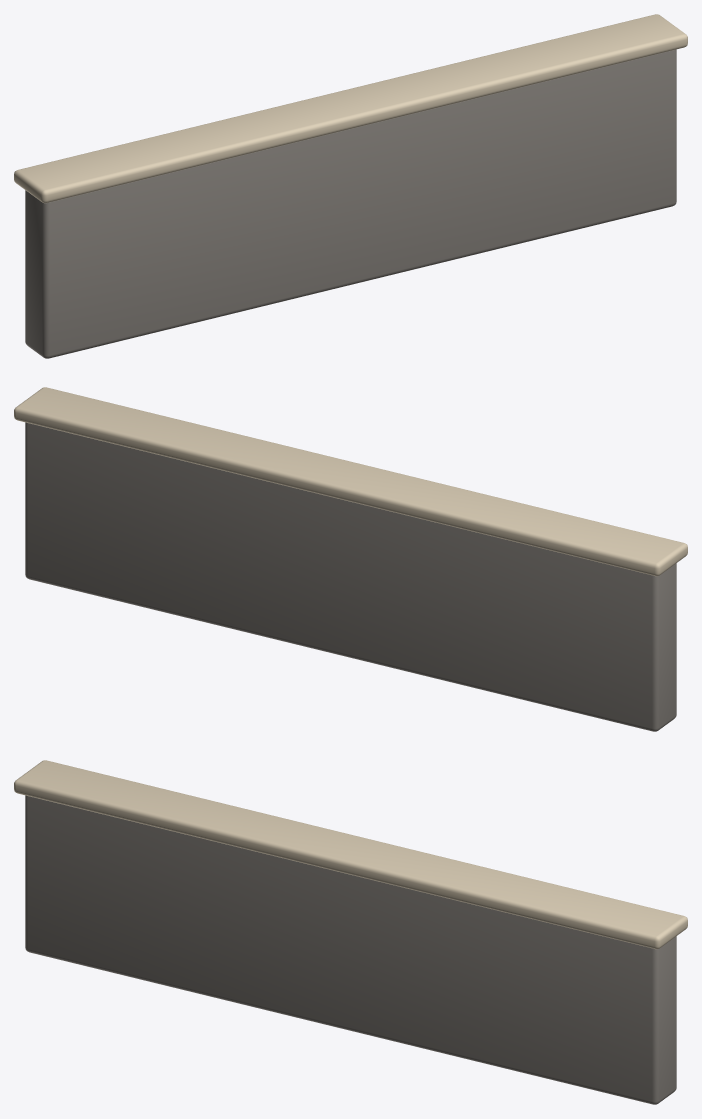
File: parapeito.glb
3 views of the same model, one above another, from view 1: azimuth 30°, elevation 25°; view 2: azimuth 150°, elevation 25°; view 3: azimuth 330°, elevation 25° (orthographic).
Visible parts, largest first — view 1: parapeito_muro, Cube; view 2: parapeito_muro, Cube; view 3: parapeito_muro, Cube.
Part boxes in pixels (x1,y1,x2,y2): parapeito_muro: (25, 49, 676, 358); Cube: (14, 14, 687, 203); parapeito_muro: (25, 422, 676, 731); Cube: (14, 387, 687, 576); parapeito_muro: (25, 795, 676, 1104); Cube: (14, 760, 687, 949).
Bounding box in the file's own units: 4.08 × 1.05 × 0.34.
